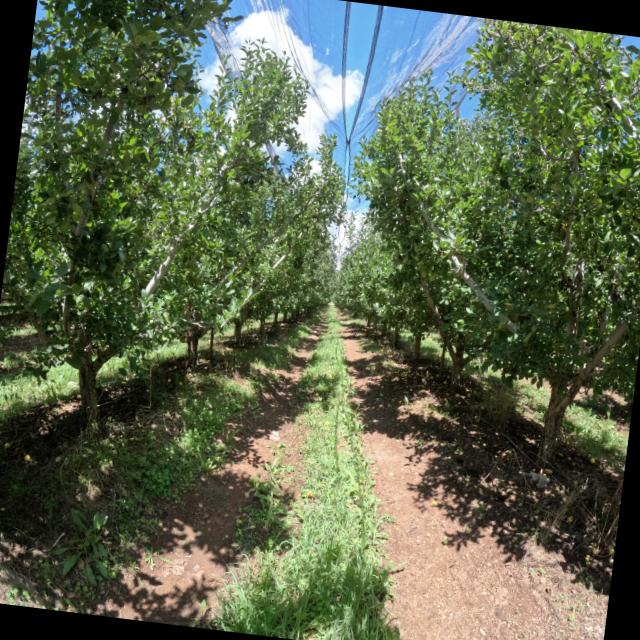-FireBlight-: (182, 304, 192, 315)
